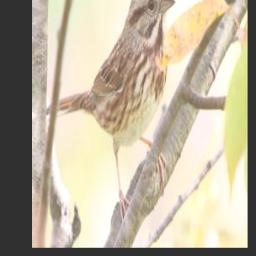Sparrow: (44, 0, 178, 224)
